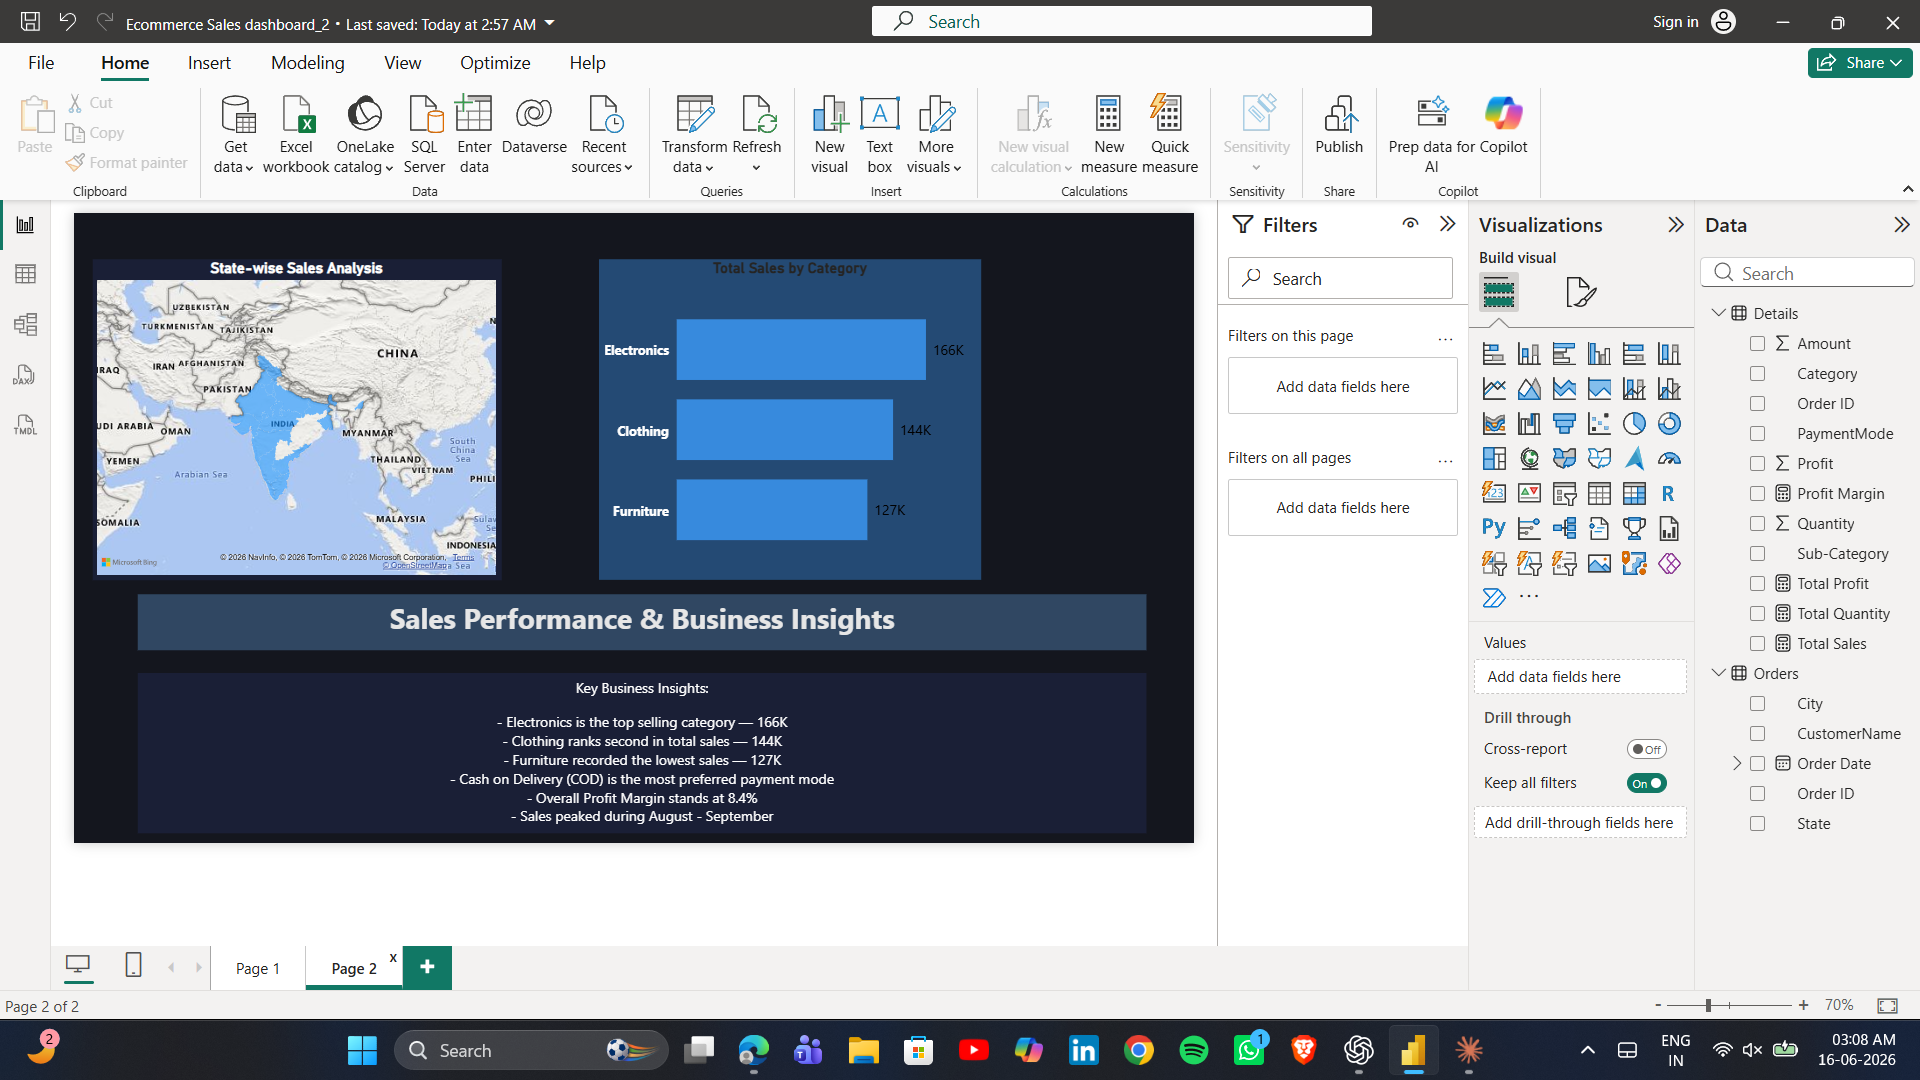

This screenshot's page, from the dashboard's own definition file:
{"tool":"powerbi","page":{"name":"Page 2","canvas":[1280,720],"ordinal":1},"visuals":[{"type":"filledMap","title":"State-wise Sales Analysis","fields":{"Category":["Orders.State"]},"box":[21,53,466,366],"z":0},{"type":"barChart","fields":{"Y":["Details.Total Sales"],"Category":["Details.Category"]},"box":[600,53.3,436.7,366.7],"z":1},{"type":"textbox","box":[72.9,435.7,1152.9,64.3],"z":2},{"type":"textbox","box":[72.9,525.7,1152.9,182.9],"z":3}]}

Visuals, with their boxes on the page's 1280x720 design canvas (x1, y1, x2, y2). These are canvas units, not pixel positions in the 1920x1080 screenshot, which may show the page scaled, cropped or inside an application window:
"State-wise Sales Analysis" filledMap: Rect(21, 53, 487, 419)
barChart - Details.Total Sales x Details.Category: Rect(600, 53, 1037, 420)
textbox: Rect(73, 436, 1226, 500)
textbox: Rect(73, 526, 1226, 709)
